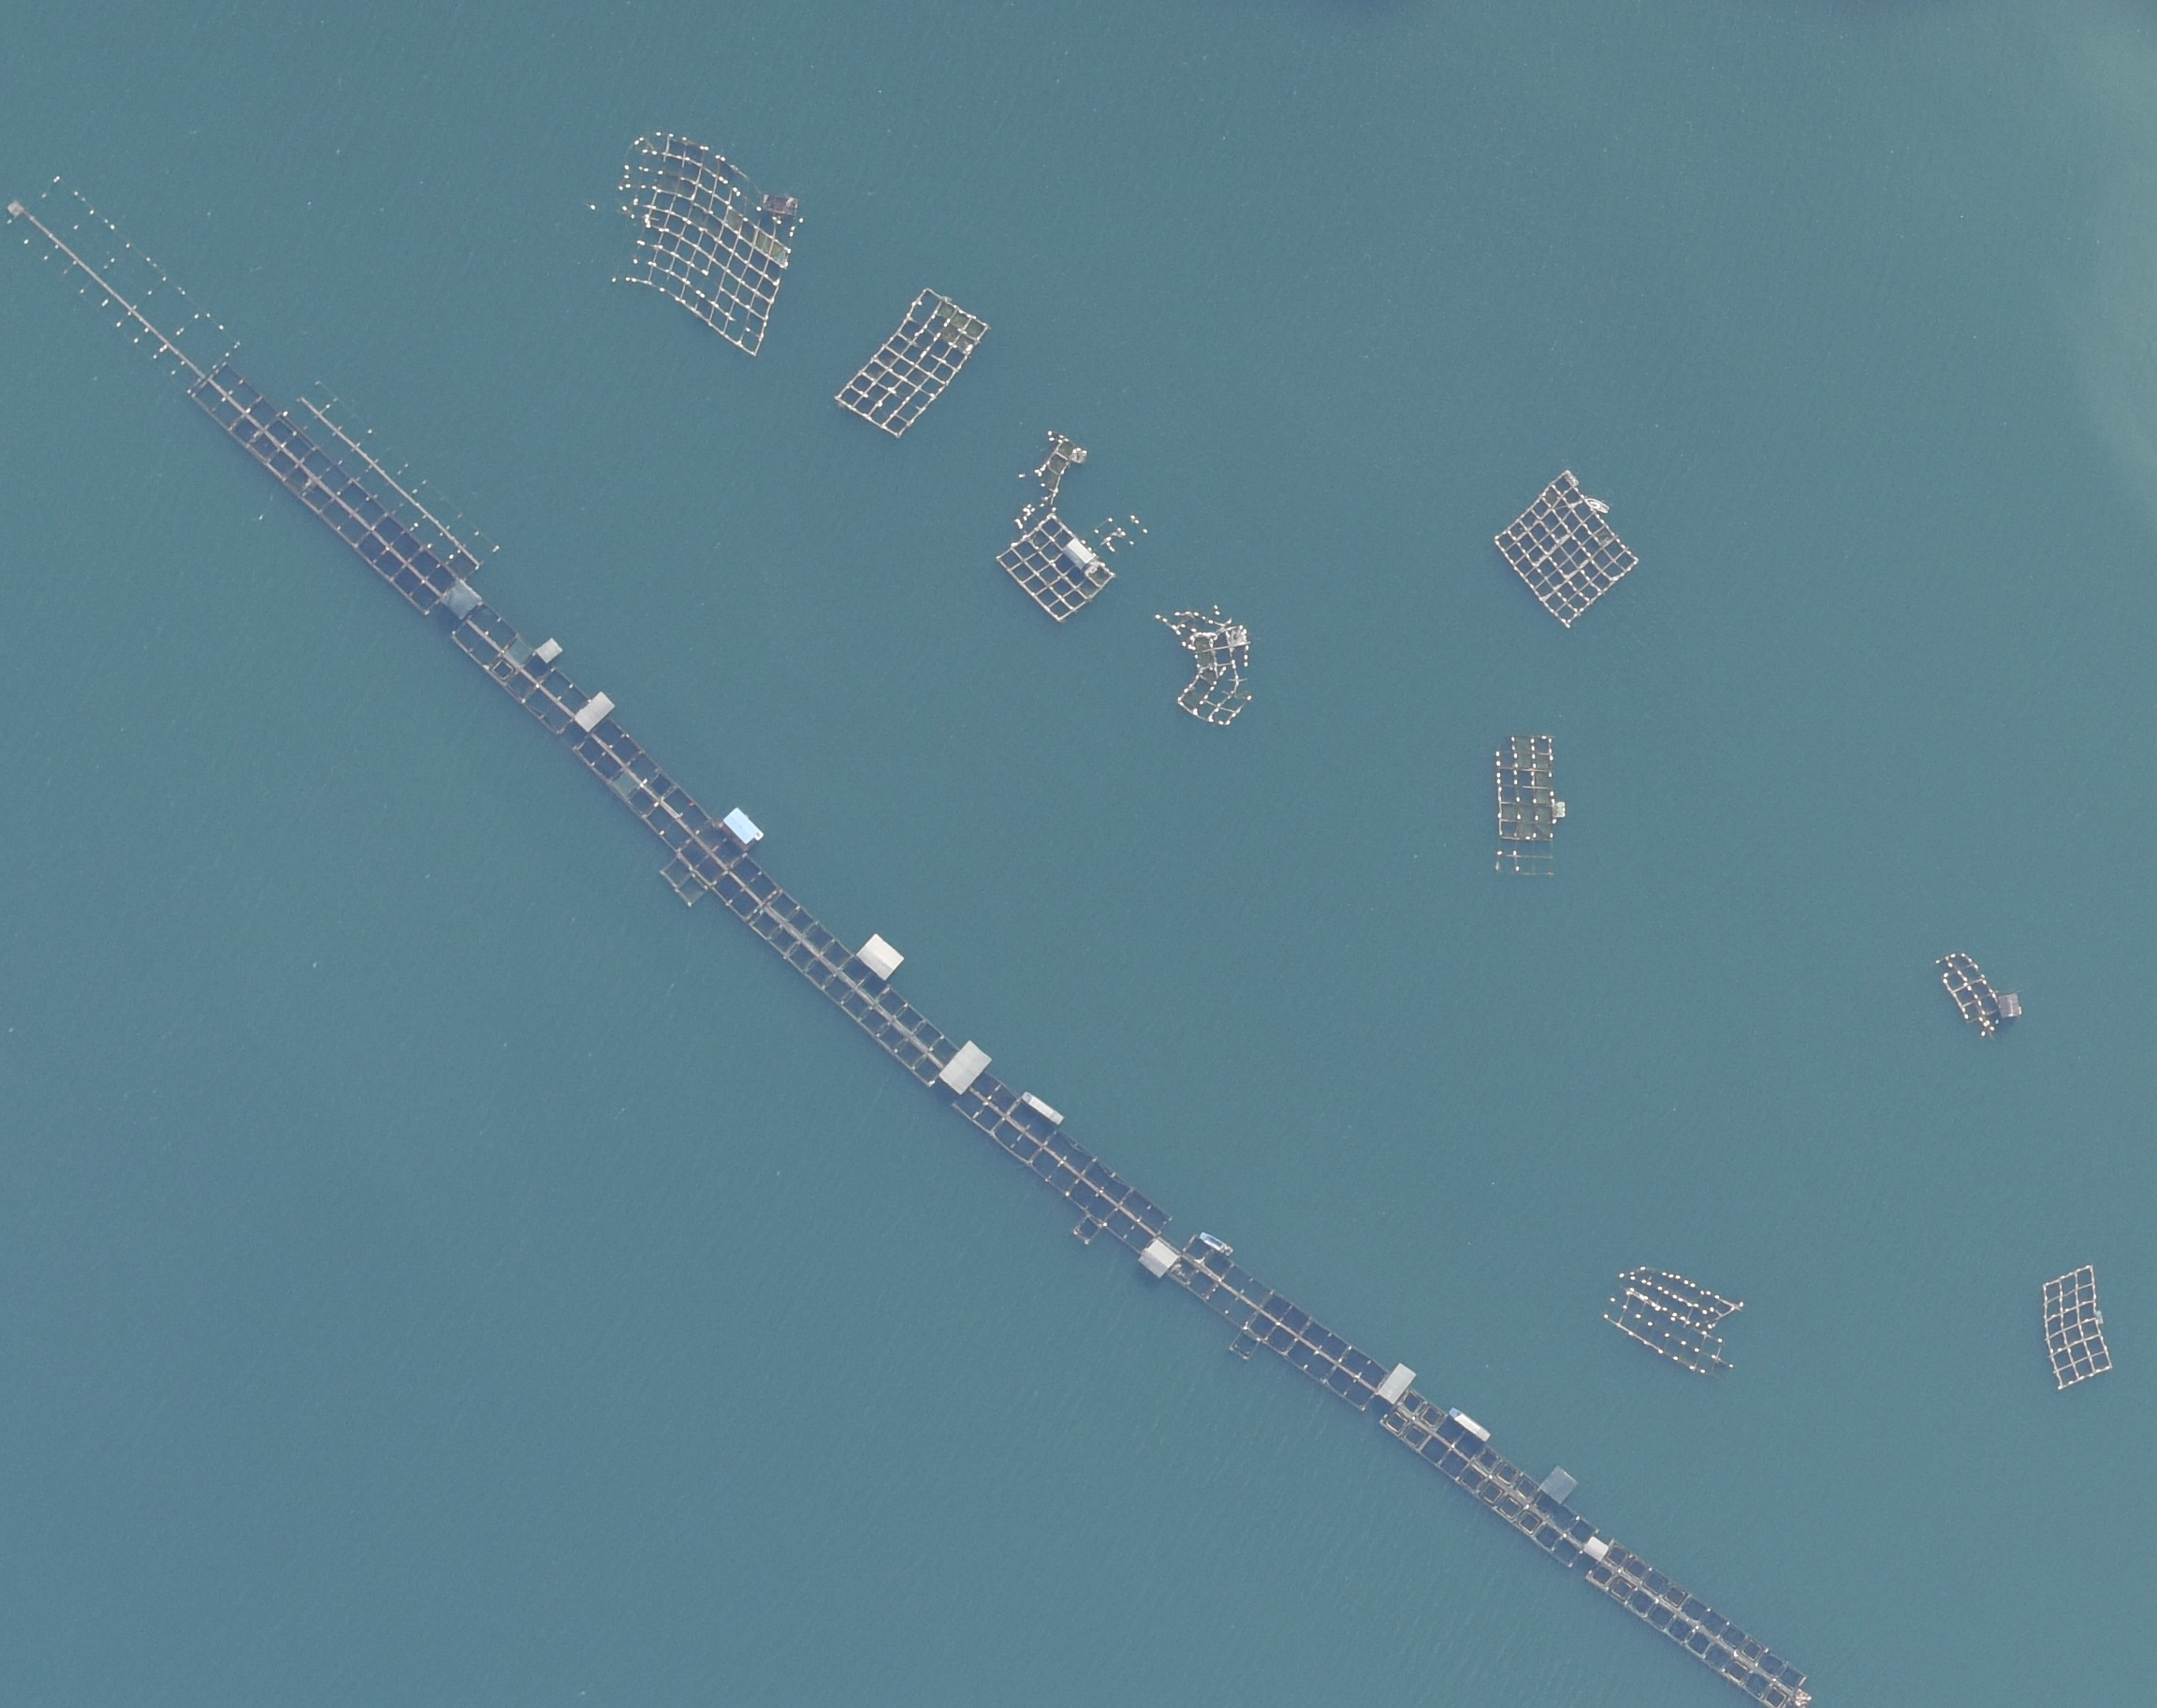cultivation-mesh-cage: (193, 352, 498, 615), (709, 857, 964, 1087), (7, 167, 240, 398), (586, 130, 802, 358), (956, 1072, 1168, 1256), (1379, 1394, 1597, 1569), (1169, 1238, 1388, 1412), (1589, 1546, 1807, 1708), (576, 719, 746, 902), (996, 431, 1149, 620), (834, 286, 988, 440), (1494, 471, 1639, 629), (447, 600, 590, 734), (1604, 1265, 1744, 1376), (1155, 604, 1253, 726), (2042, 1263, 2113, 1389), (1492, 734, 1552, 877), (1933, 953, 2001, 1038)
prefabricated-house: (936, 1036, 991, 1094), (856, 932, 905, 981), (1378, 1362, 1419, 1407), (720, 805, 763, 846), (575, 693, 614, 734), (1137, 1239, 1178, 1277), (443, 583, 482, 620), (1538, 1466, 1576, 1503), (1061, 540, 1095, 570), (536, 636, 562, 665), (1997, 994, 2023, 1020), (1581, 1540, 1610, 1562), (1552, 801, 1566, 820)
ship: (1019, 1088, 1066, 1126), (1446, 1404, 1491, 1440), (1198, 1230, 1234, 1257), (1584, 496, 1611, 515)
